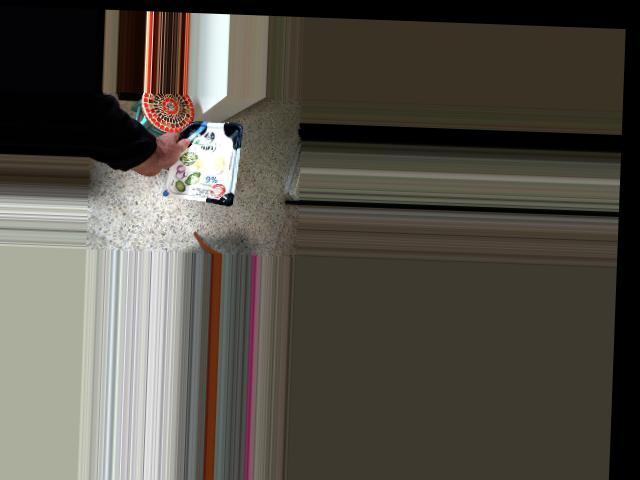cheese: (138, 120, 225, 205)
